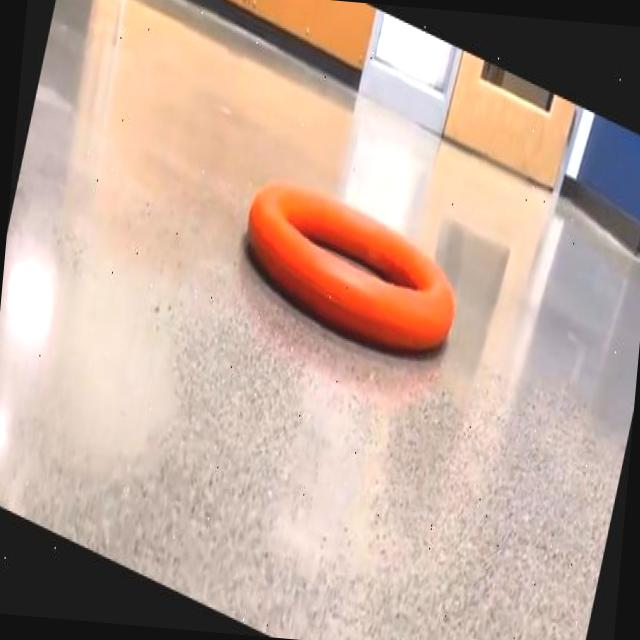note: (247, 182, 455, 350)
